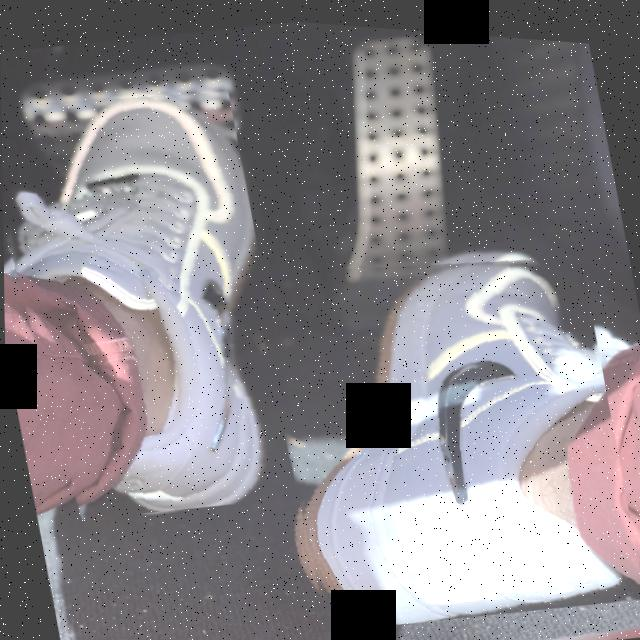shoe: (249, 211, 640, 640), (1, 64, 303, 536)
